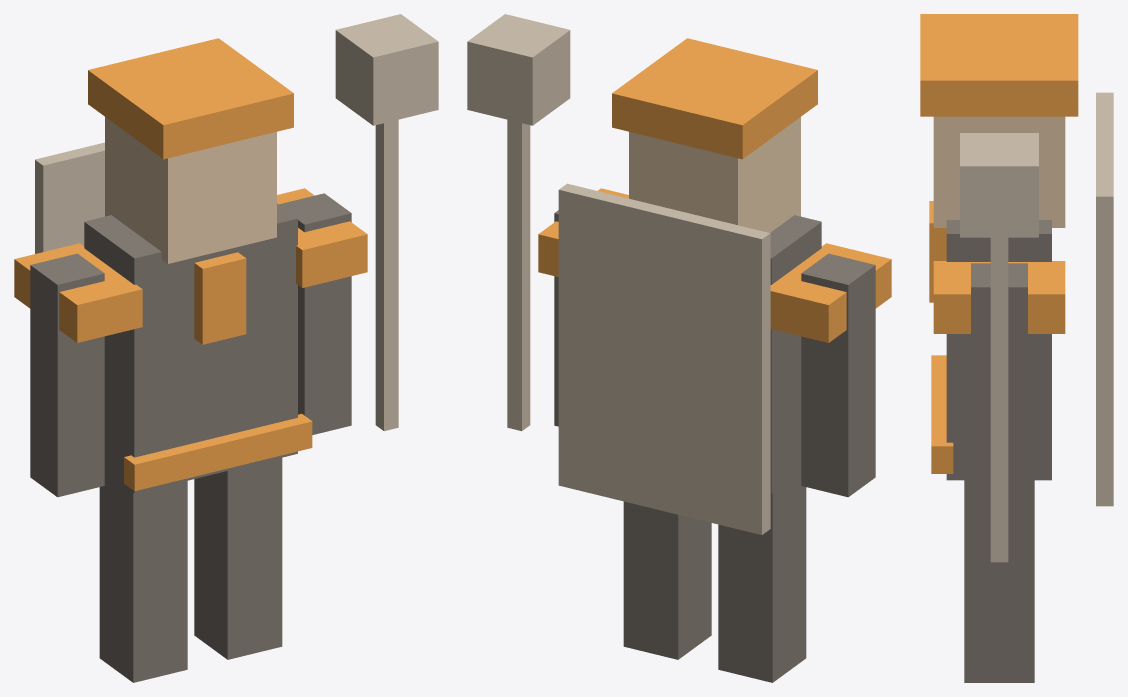
The model's file is 11_nyra_wayfare_fixer_near_deep.glb.
3 views of the same model, side by side, from view 1: azimuth 30°, elevation 25°; view 2: azimuth 150°, elevation 25°; view 3: azimuth 270°, elevation 25° (orthographic). The views are drawn at different scales.
Parts seen in each view (by area): view 1: Nyra Wayfare, Fixer near Deep; view 2: Nyra Wayfare, Fixer near Deep; view 3: Nyra Wayfare, Fixer near Deep.
Boxes of the visible parts, x1=… form: Nyra Wayfare, Fixer near Deep: x1=14, y1=14, x2=438, y2=682; Nyra Wayfare, Fixer near Deep: x1=467, y1=14, x2=891, y2=682; Nyra Wayfare, Fixer near Deep: x1=920, y1=14, x2=1113, y2=682.
Bounding box in the file's own units: 1.05 × 1.52 × 0.4443.
